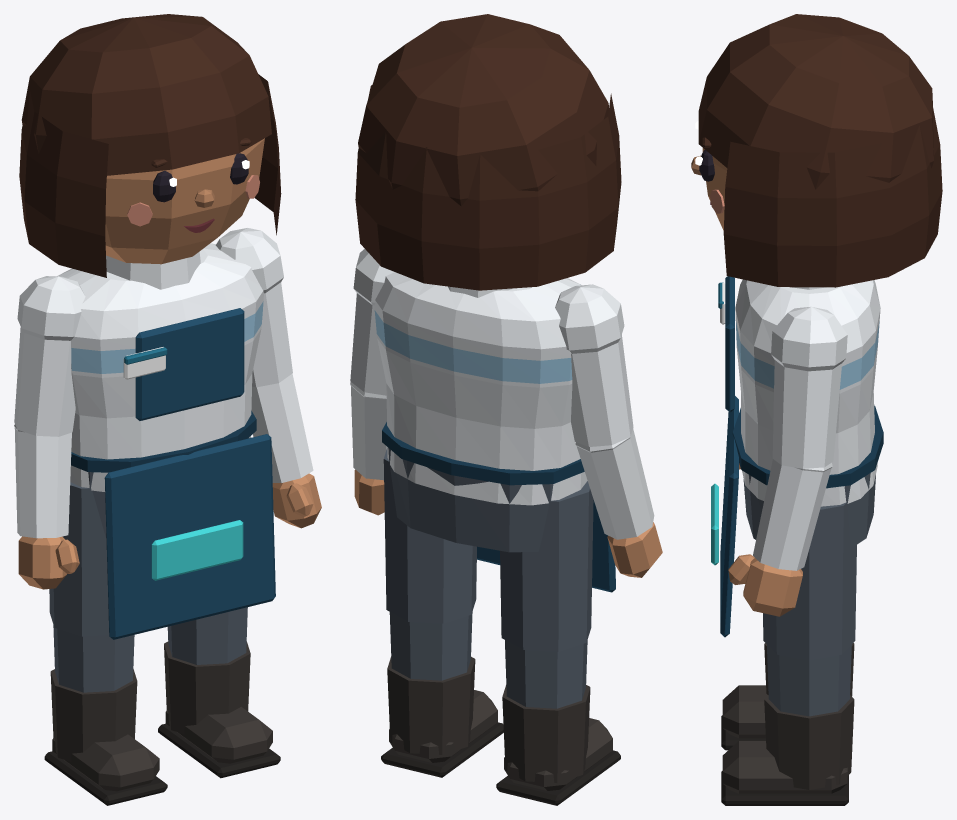
File: kas_fro.glb
The picture shows the model from 3 angles, left to right: view 1: azimuth 30°, elevation 25°; view 2: azimuth 150°, elevation 25°; view 3: azimuth 270°, elevation 25°; orthographic projection.
Visible parts, largest first — view 1: haare, schürze, torso, arm_r, kopf, bein_r, schuh_l, schuh_r, arm_l, bein_l, hand_r, gesicht (+3 smaller); view 2: haare, torso, bein_r, arm_r, bein_l, schuh_r, schuh_l, becken, arm_l, schürze, hand_r, hand_l; view 3: haare, arm_l, torso, bein_l, schuh_l, schürze, hand_l, schuh_r, becken, gesicht, kopf.
Boxes of the visible parts, left/top/right/bottom form: haare: left=19, top=14, right=281, bottom=277; schürze: left=71, top=308, right=275, bottom=639; torso: left=57, top=243, right=263, bottom=491; arm_r: left=14, top=276, right=85, bottom=538; kopf: left=105, top=138, right=264, bottom=264; bein_r: left=49, top=482, right=134, bottom=692; schuh_l: left=158, top=641, right=280, bottom=778; schuh_r: left=44, top=669, right=167, bottom=805; arm_l: left=215, top=228, right=313, bottom=483; bein_l: left=167, top=436, right=251, bottom=664; hand_r: left=18, top=536, right=79, bottom=589; gesicht: left=127, top=138, right=259, bottom=232; haare: left=355, top=14, right=621, bottom=290; torso: left=374, top=272, right=587, bottom=505; bein_r: left=500, top=481, right=593, bottom=708; arm_r: left=555, top=284, right=654, bottom=539; bein_l: left=383, top=448, right=476, bottom=680; schuh_r: left=496, top=685, right=620, bottom=805; schuh_l: left=381, top=656, right=503, bottom=777; becken: left=388, top=448, right=553, bottom=552; arm_l: left=350, top=249, right=394, bottom=480; schürze: left=382, top=422, right=615, bottom=592; hand_r: left=607, top=522, right=662, bottom=577; hand_l: left=354, top=469, right=384, bottom=515; haare: left=698, top=14, right=942, bottom=287; arm_l: left=753, top=306, right=847, bottom=570; torso: left=735, top=279, right=880, bottom=506; bein_l: left=763, top=502, right=856, bottom=716; schuh_l: left=721, top=695, right=854, bottom=805; schürze: left=711, top=276, right=883, bottom=637; hand_l: left=728, top=554, right=802, bottom=616; schuh_r: left=721, top=643, right=854, bottom=750; becken: left=743, top=473, right=875, bottom=548; gesicht: left=691, top=121, right=724, bottom=213; kopf: left=702, top=148, right=727, bottom=230.
Size of the model in its own units: 0.0103 by 0.0245 by 0.00763.
